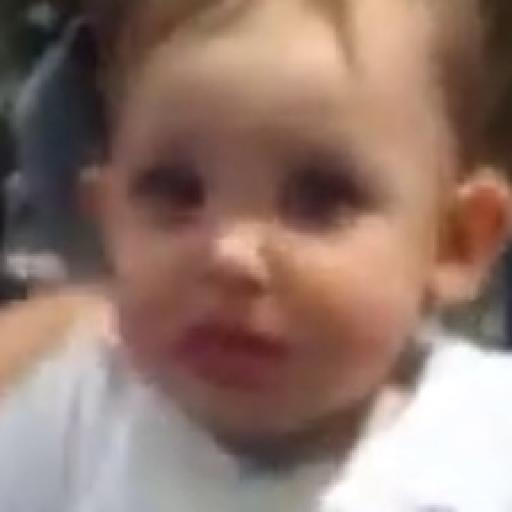Autism: (94, 22, 471, 445)
